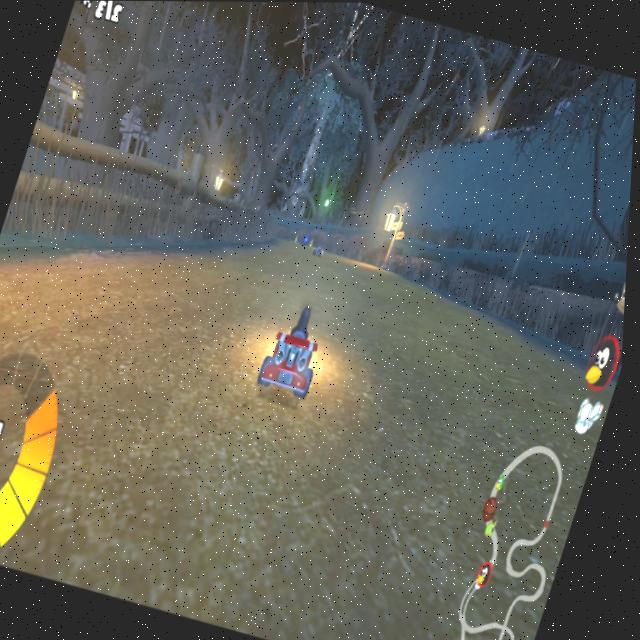player_kart: (256, 297, 343, 405), (312, 242, 329, 262)
track: (253, 243, 423, 317)
